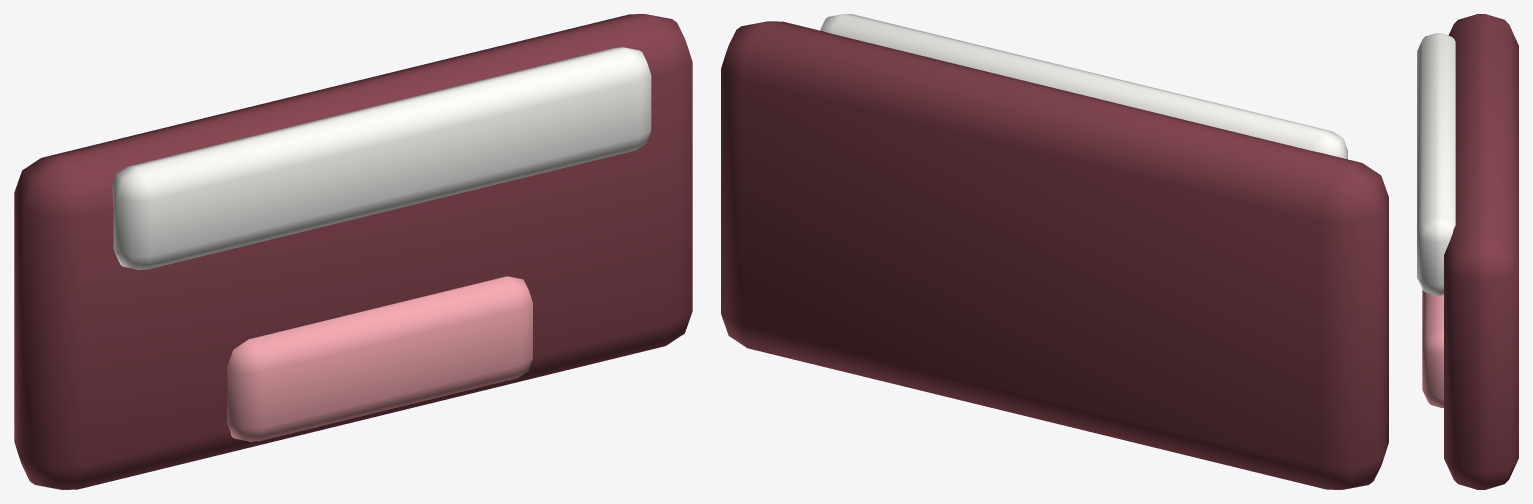
Rendered from CharMouthGrin.fbx.
3 renders of one model, left to right at view 1: azimuth 30°, elevation 25°; view 2: azimuth 150°, elevation 25°; view 3: azimuth 270°, elevation 25°, orthographic. The views are drawn at different scales.
Visible parts, largest first — view 1: CharMouthGrin; view 2: CharMouthGrin; view 3: CharMouthGrin.
Boxes of the visible parts, bbox=[...] form: CharMouthGrin: bbox=[14, 14, 692, 489]; CharMouthGrin: bbox=[721, 14, 1388, 489]; CharMouthGrin: bbox=[1417, 14, 1518, 489].
Size of the model in its own units: 0.11 by 0.052 by 0.019.
